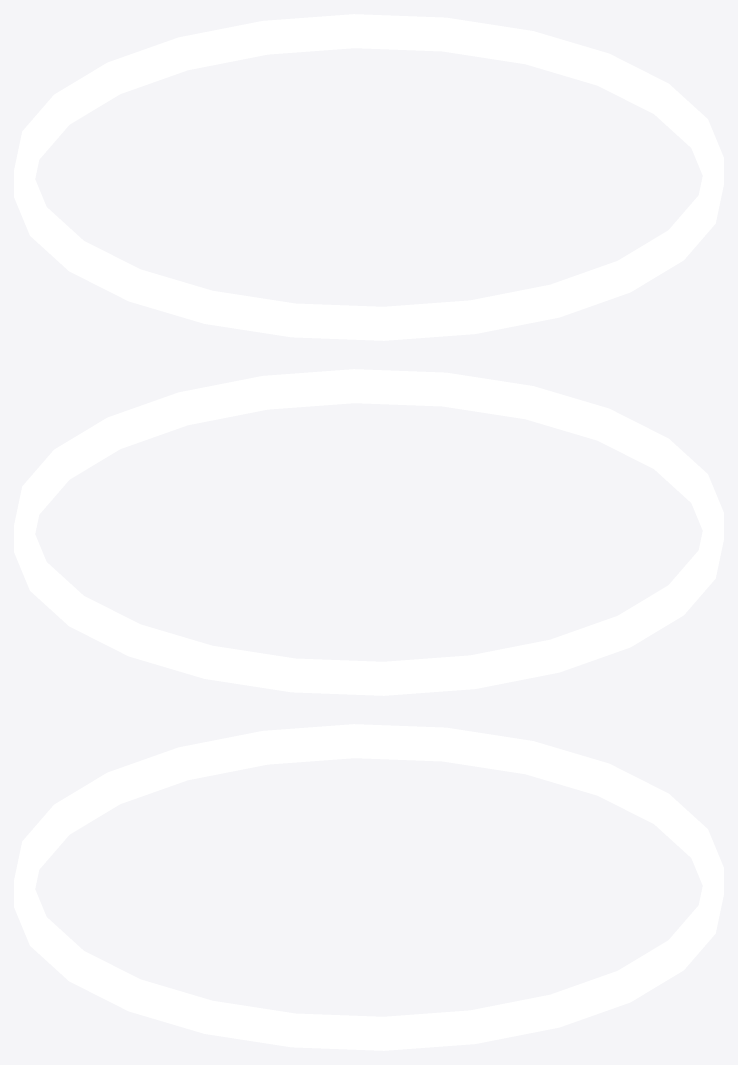
Rendered from Frame_Neon_Vapor_02.glb.
3 views of the same model, one above another, from view 1: azimuth 30°, elevation 25°; view 2: azimuth 150°, elevation 25°; view 3: azimuth 270°, elevation 25° (orthographic).
Visible parts, largest first — view 1: Frame_Neon_Vapor_02; view 2: Frame_Neon_Vapor_02; view 3: Frame_Neon_Vapor_02.
Boxes of the visible parts, x1,y1,x2,y2 form: Frame_Neon_Vapor_02: [14, 14, 723, 340]; Frame_Neon_Vapor_02: [14, 369, 723, 695]; Frame_Neon_Vapor_02: [14, 724, 723, 1050].
Bounding box in the file's own units: 9.12 × 0.3783 × 9.12.
1 material, 1 textured.
